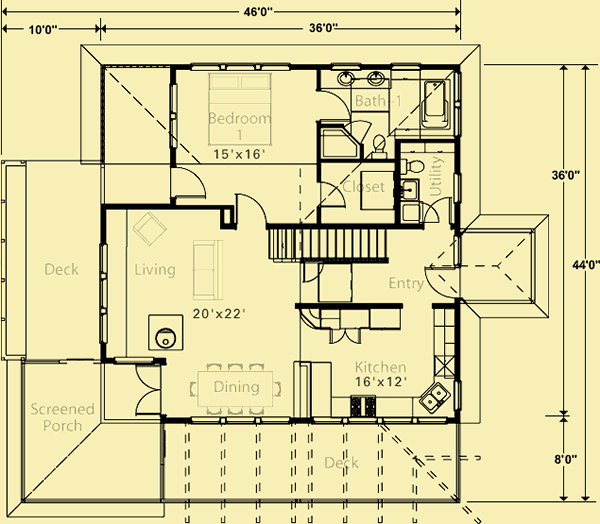bed: (206, 72, 272, 149)
dining_table: (183, 361, 286, 415)
door: (314, 85, 351, 124), (132, 366, 161, 415), (168, 166, 207, 200), (420, 266, 461, 298), (234, 191, 270, 227), (425, 194, 454, 226), (318, 182, 346, 209), (344, 117, 372, 143), (301, 263, 326, 286), (328, 329, 361, 346)
large_sink: (398, 153, 428, 179), (369, 131, 390, 161)
large_sofa: (192, 237, 224, 303)
sink: (401, 177, 421, 203)
small_sink: (322, 67, 393, 92)
small_sofa: (130, 212, 170, 250)
stairs: (267, 227, 391, 265)
tub: (419, 78, 452, 129)
twin_sink: (417, 380, 452, 415)
window: (97, 245, 111, 348), (311, 416, 447, 425), (189, 415, 293, 426), (190, 62, 293, 72), (453, 72, 463, 137), (170, 82, 179, 151), (451, 172, 464, 206)
